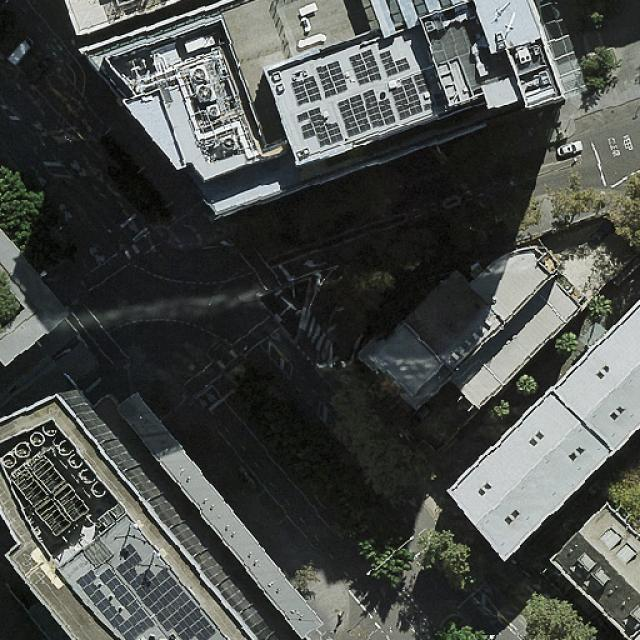Bike-Symbols: (69, 158, 82, 171), (62, 209, 74, 222), (32, 119, 44, 132), (204, 391, 218, 402), (92, 253, 106, 264), (270, 332, 284, 343), (198, 398, 209, 410), (36, 174, 47, 186), (128, 220, 139, 231)
